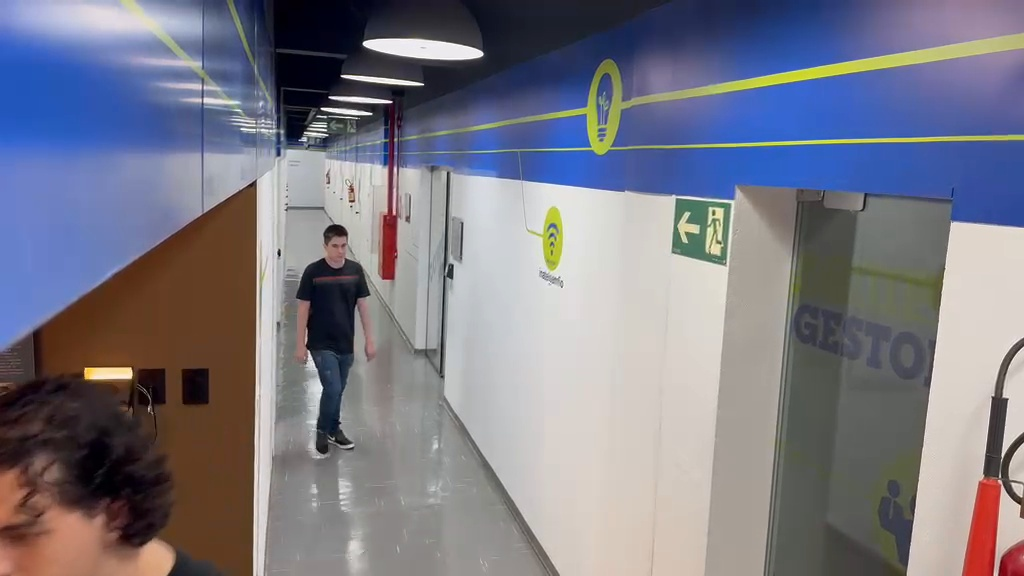person: (0, 376, 222, 571), (294, 223, 374, 456)
